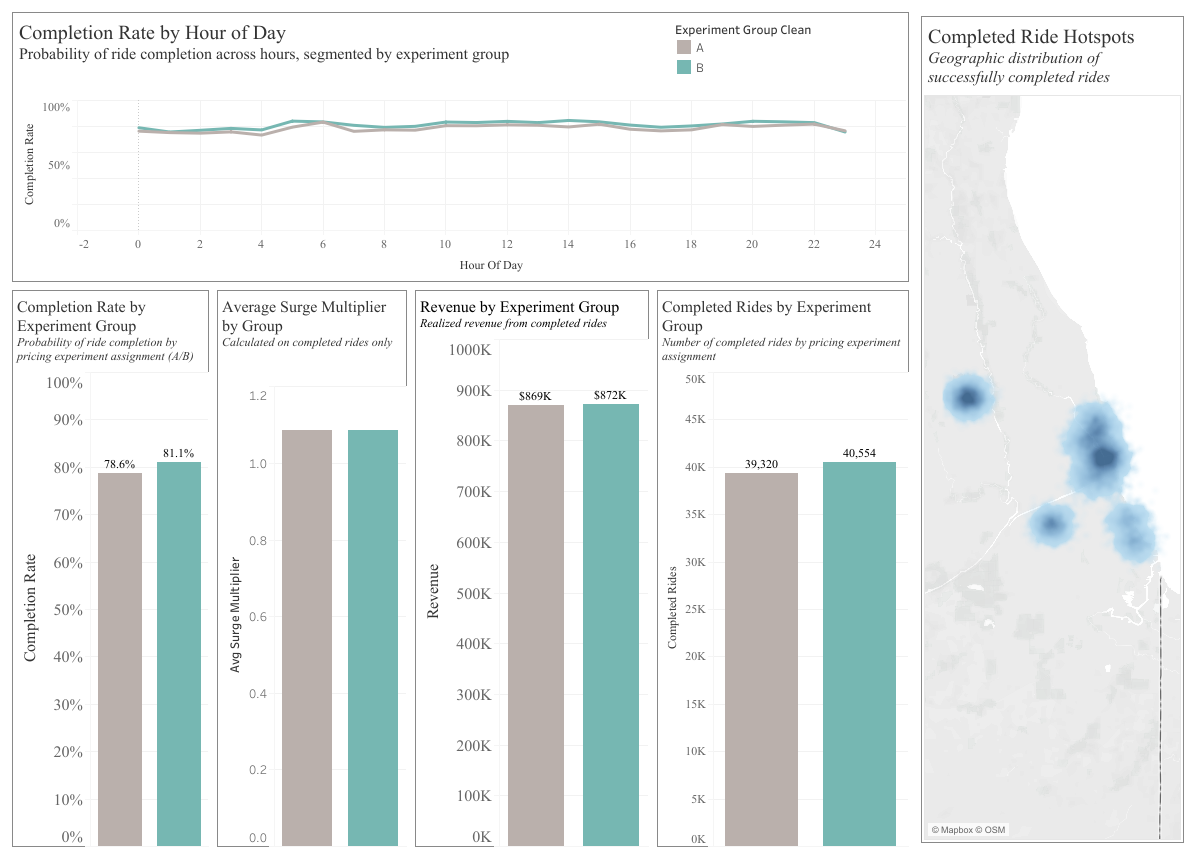

The dashboard page shown, as its layout file describes it:
{"tool":"tableau","page":{"name":"Dashboard 1","canvas":[1000,1000],"units":"permille","ordinal":0},"visuals":[{"type":"worksheet","title":"WS4 – Completion Rate by Hour of Day","mark":"Automatic","rows":["Calculation_2884870609649666"],"cols":["hour_of_day"],"box":[6.7,9.3,754.6,323.2]},{"type":"worksheet","title":"WS6 – Completed Ride Hotspots","mark":"Heatmap","rows":["pickup_lat"],"cols":["pickup_lon"],"box":[761.2,9.3,232.1,981.3]},{"type":"legend","title":"WS2 – Revenue by Experiment Group","param":"[federated.13b94qe10crn9h0zzkn8005pcfk6].[none:experiment_group_clean:nk]","box":[561.7,21,116.7,67.7]},{"type":"worksheet","title":"WS1 – Completion Rate by Experiment Group","mark":"Bar","rows":["Calculation_2884870609649666"],"cols":["experiment_group_clean"],"box":[6.7,332.6,170.4,658.1]},{"type":"worksheet","title":"WS5 – Avg Surge Multiplier by Experiment Group","mark":"Automatic","rows":["Calculation_2884870609719300"],"cols":["experiment_group_clean"],"box":[177.1,332.6,165.3,658.1]},{"type":"worksheet","title":"WS2 – Revenue by Experiment Group","mark":"Bar","rows":["Calculation_2884870609686531"],"cols":["experiment_group_clean"],"box":[342.4,332.6,202.1,658.1]},{"type":"worksheet","title":"WS3 – Completed Rides by Experiment Group","mark":"Automatic","rows":["Calculation_2884870609612801"],"cols":["experiment_group_clean"],"box":[544.5,332.6,216.7,658.1]}]}

Visuals, with their boxes on the dashboard's canvas, which has no fixed pixel size, in thousandths of its width and height (x1, y1, x2, y2). These are canvas units, not pixel positions in the 1199x858 screenshot, which may show the page scaled, cropped or inside an application window:
"WS4 – Completion Rate by Hour of Day" worksheet: <box>7,9,761,332</box>
"WS6 – Completed Ride Hotspots" worksheet (Heatmap marks): <box>761,9,993,991</box>
"WS2 – Revenue by Experiment Group" legend: <box>562,21,678,89</box>
"WS1 – Completion Rate by Experiment Group" worksheet (Bar marks): <box>7,333,177,991</box>
"WS5 – Avg Surge Multiplier by Experiment Group" worksheet: <box>177,333,342,991</box>
"WS2 – Revenue by Experiment Group" worksheet (Bar marks): <box>342,333,544,991</box>
"WS3 – Completed Rides by Experiment Group" worksheet: <box>544,333,761,991</box>
